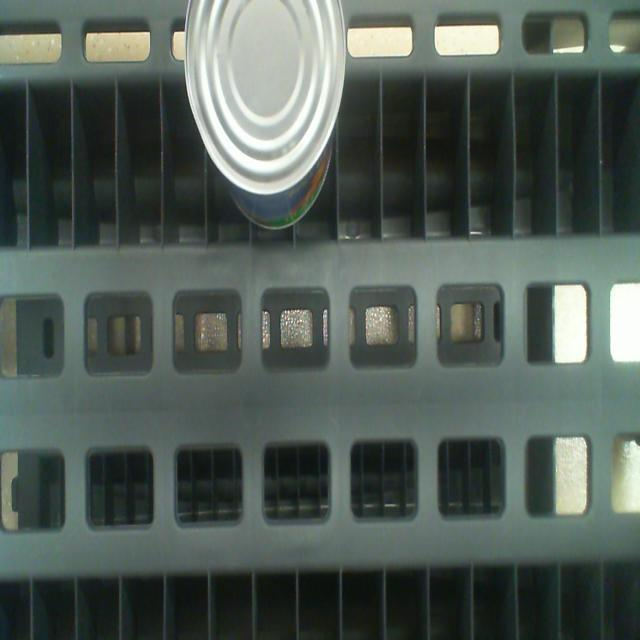can: (182, 0, 346, 199)
